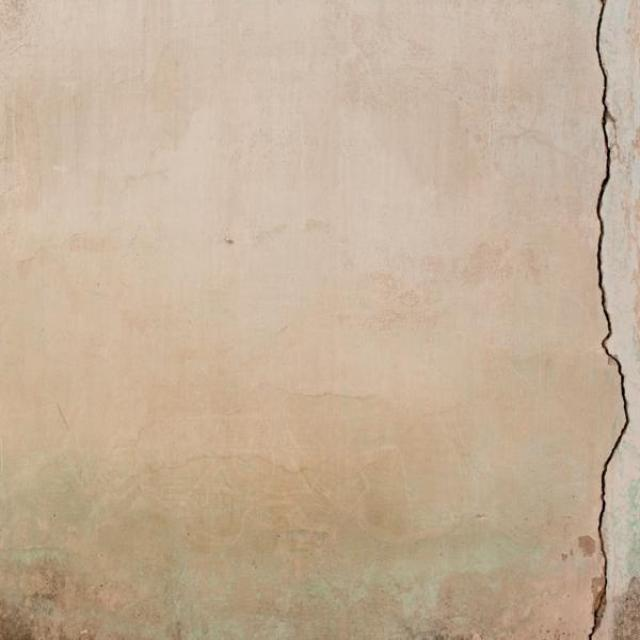vertical crack: (588, 0, 629, 639)
